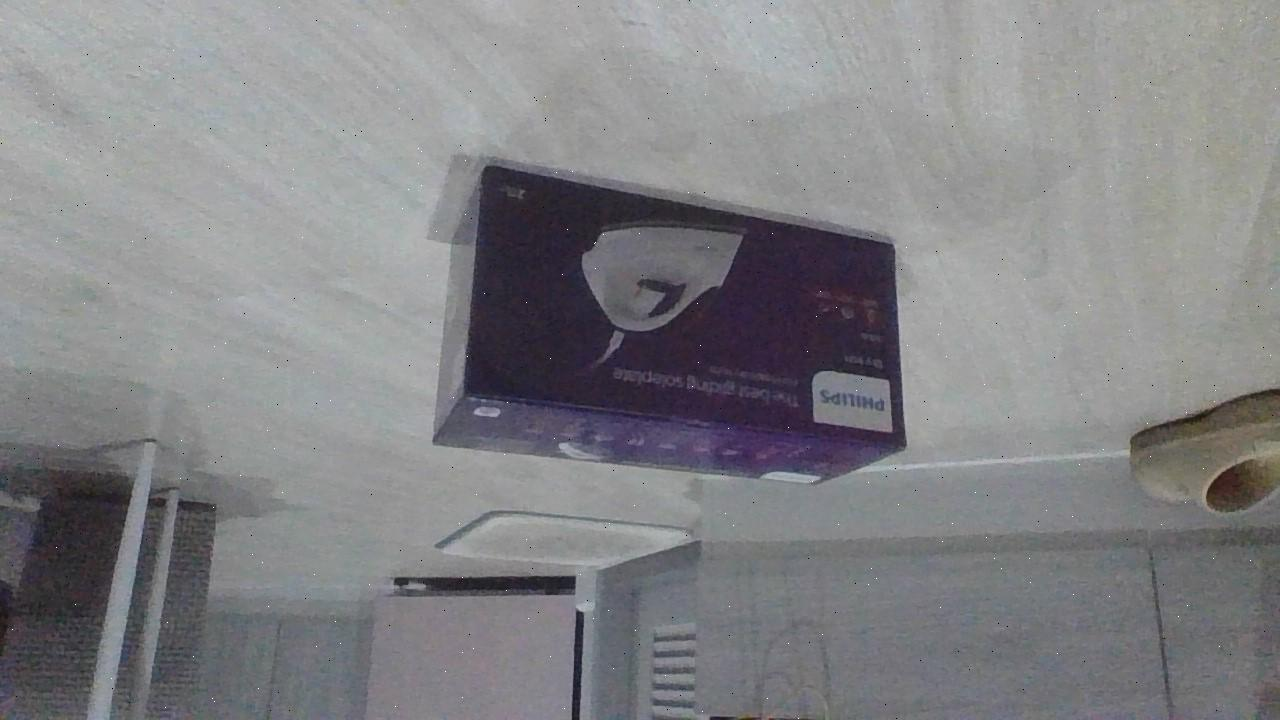Dryer: (429, 160, 912, 492)
